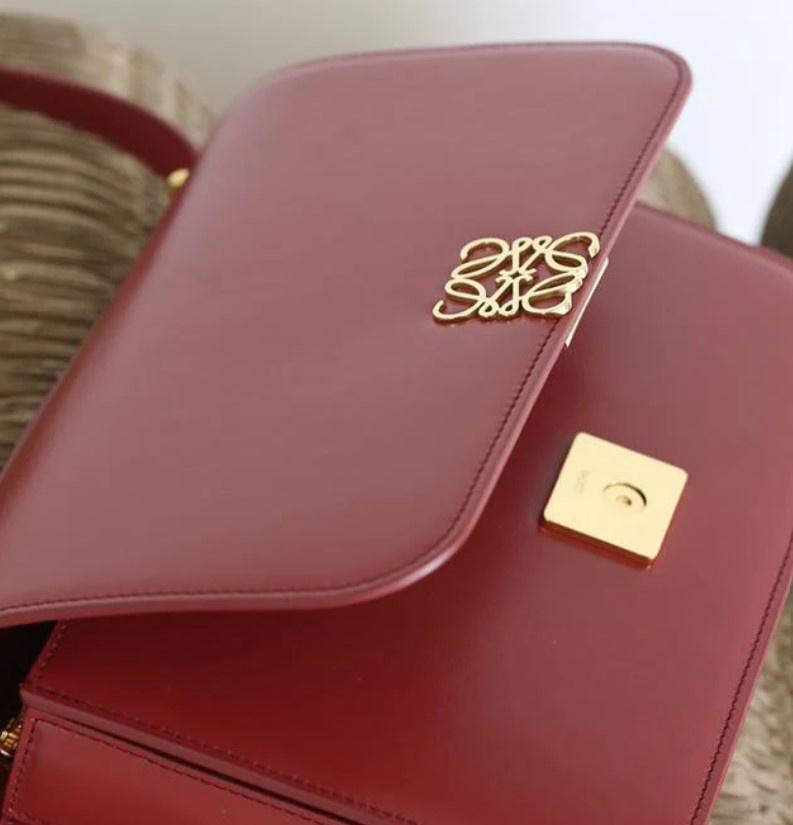LOEWE: (436, 216, 605, 336)
